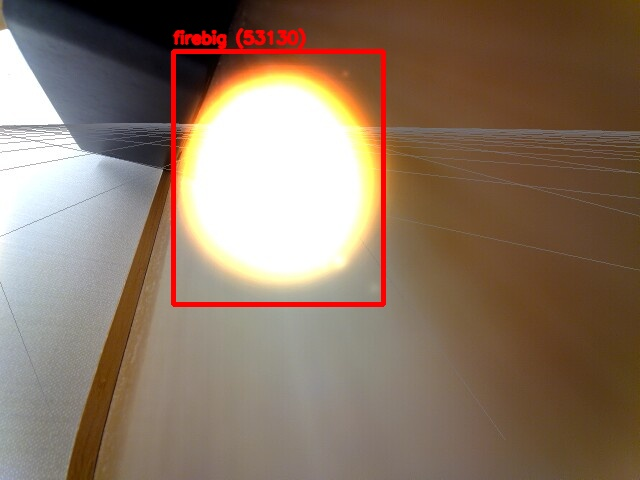firebig: (173, 51, 383, 304)
